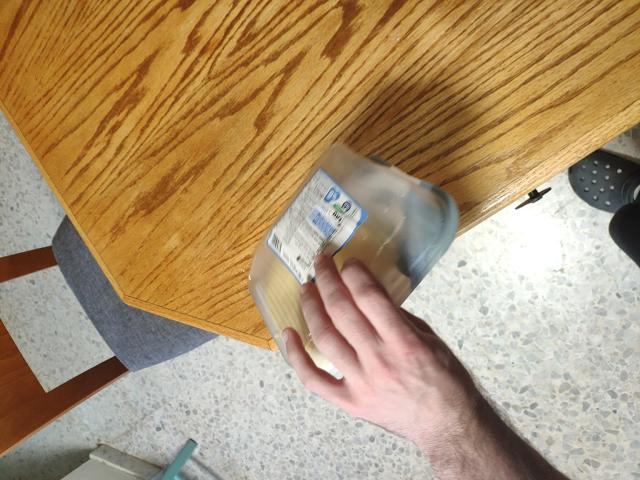cheese: (233, 136, 430, 389)
